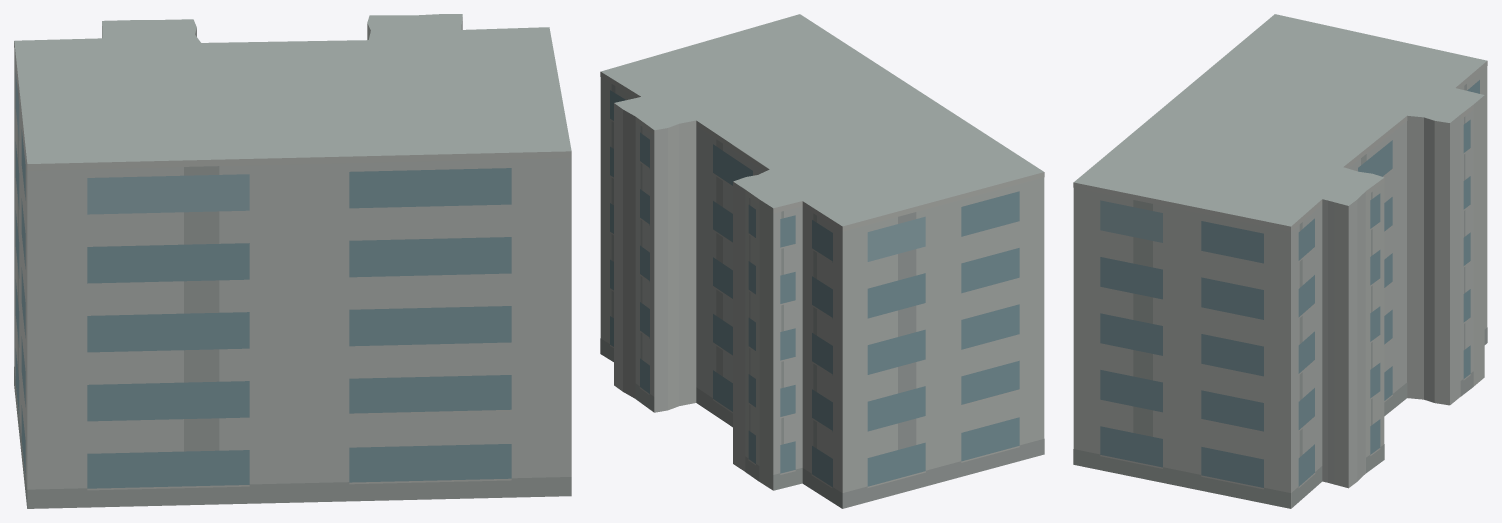
Rendered from survey-upis-32943402.glb.
3 renders of one model, left to right at view 1: azimuth 30°, elevation 25°; view 2: azimuth 150°, elevation 25°; view 3: azimuth 270°, elevation 25°, orthographic. The views are drawn at different scales.
Parts seen in each view (by area): view 1: survey-upis-32943402.tmp; view 2: survey-upis-32943402.tmp; view 3: survey-upis-32943402.tmp.
Boxes of the visible parts, x1,y1,x2,y2 form: survey-upis-32943402.tmp: [14, 14, 571, 508]; survey-upis-32943402.tmp: [600, 14, 1044, 508]; survey-upis-32943402.tmp: [1073, 14, 1487, 508].
Bounding box in the file's own units: 20.84 × 12.9 × 17.15.
